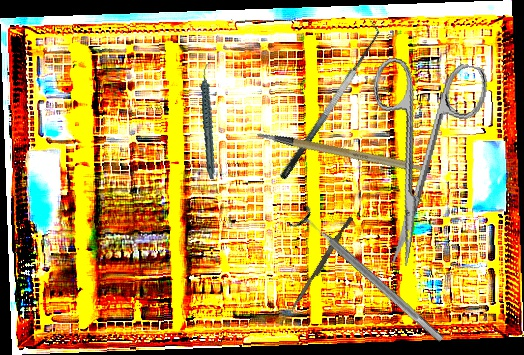Fixation Ring: (287, 203, 452, 351)
Handpiece: (184, 63, 234, 180)
Iris Scissors: (340, 48, 491, 275)
Pusher: (289, 215, 354, 314)
Scalpel Handle: (256, 104, 433, 197)
Spatula Surgical: (266, 20, 390, 181)
